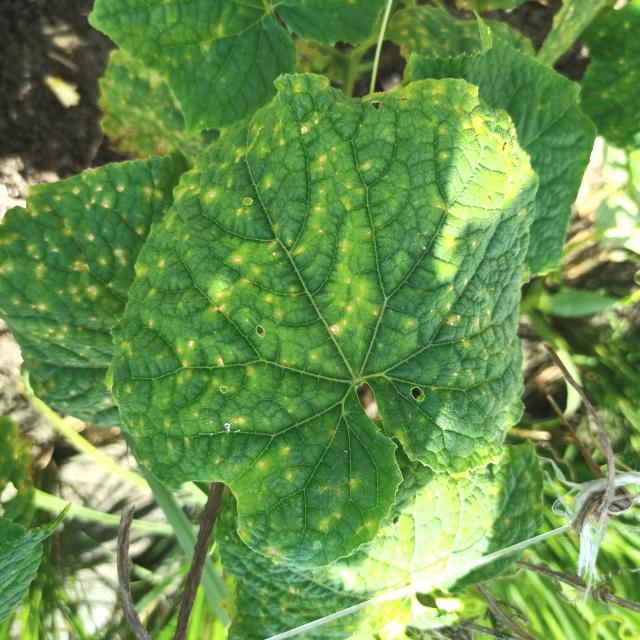disease_cucumber: (116, 85, 526, 562), (0, 160, 143, 433)
